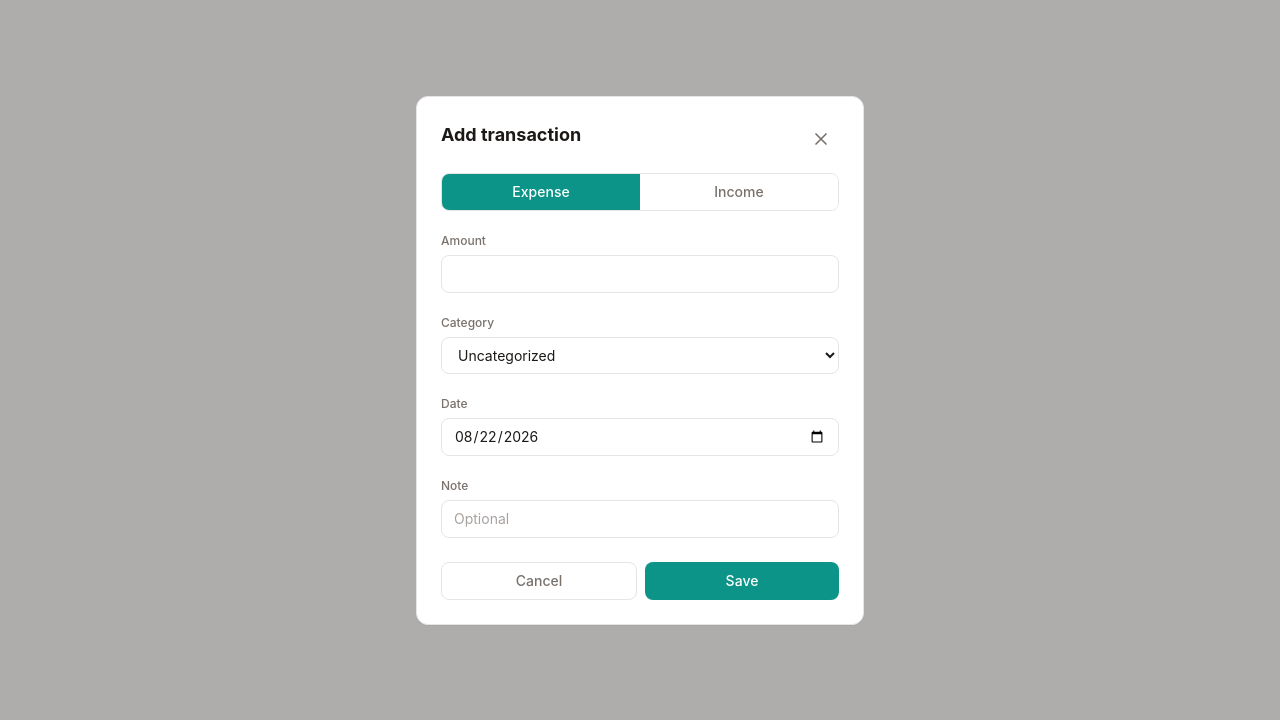
Test case: TransactionFormDialog — add mode › falls back to a generic message on a network failure
Type "10" into the number field labelled "Amount" at (640, 274), box [441,254,839,292]
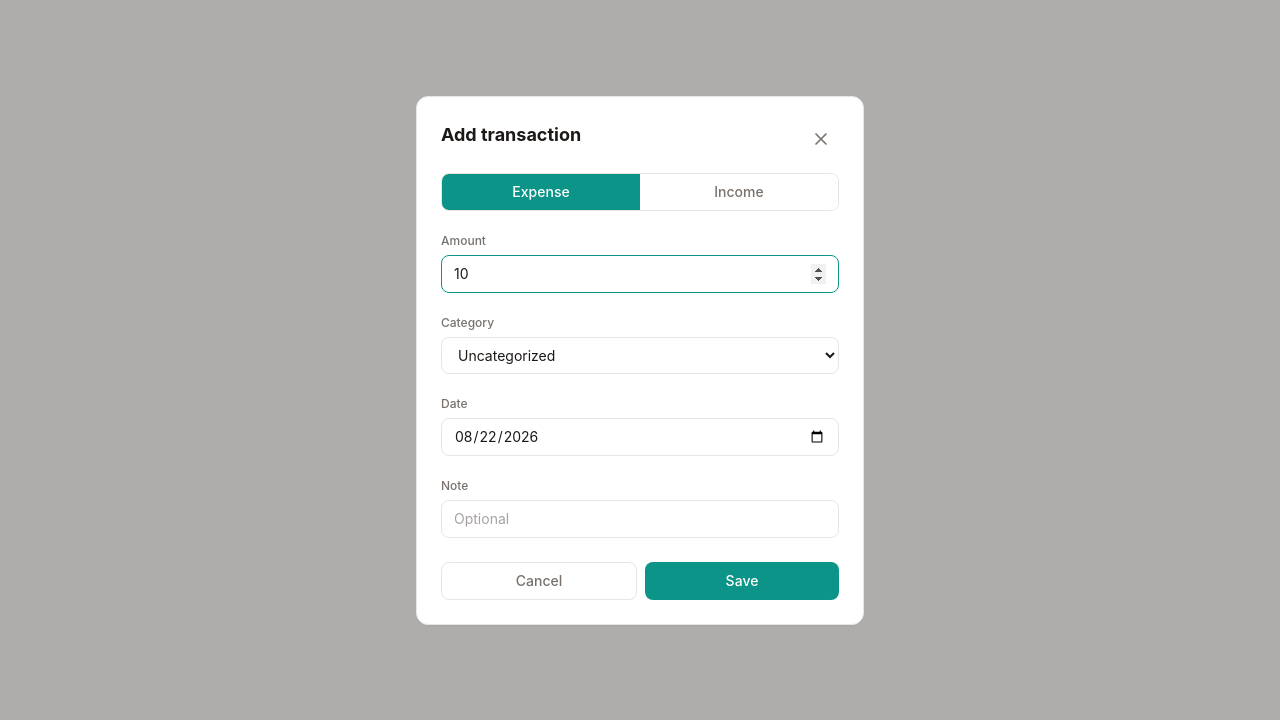
Click the button "Save" at (742, 580), box [645,562,839,600]
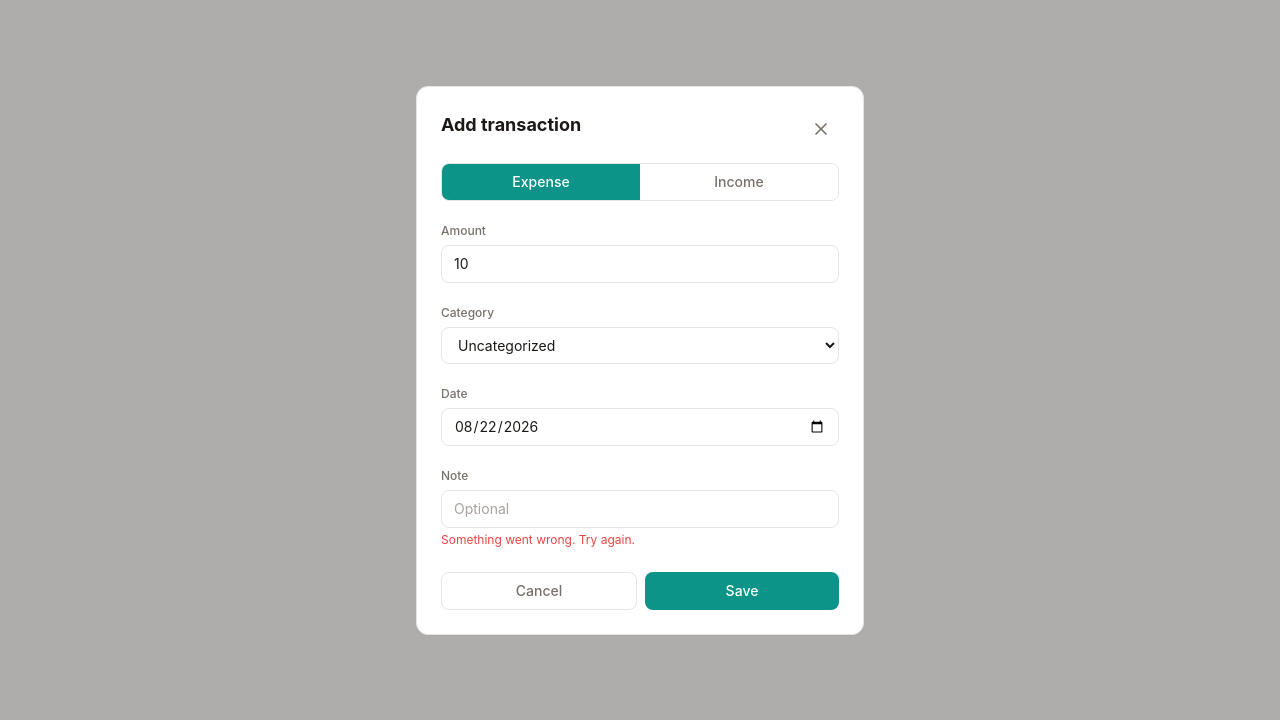
Expected: the text "Something went wrong. Try again." is shown, [441,532,635,546]
